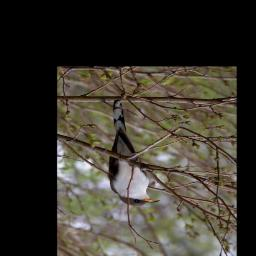Cuckoo: (107, 101, 160, 208)
